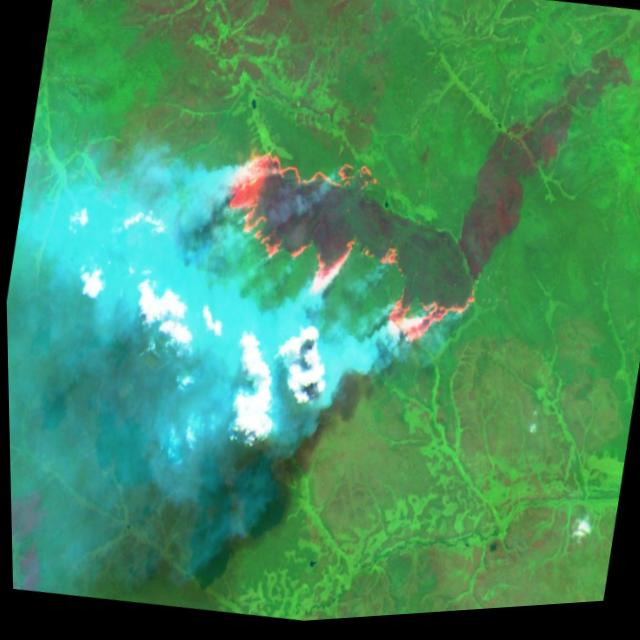fire: (199, 133, 499, 379)
